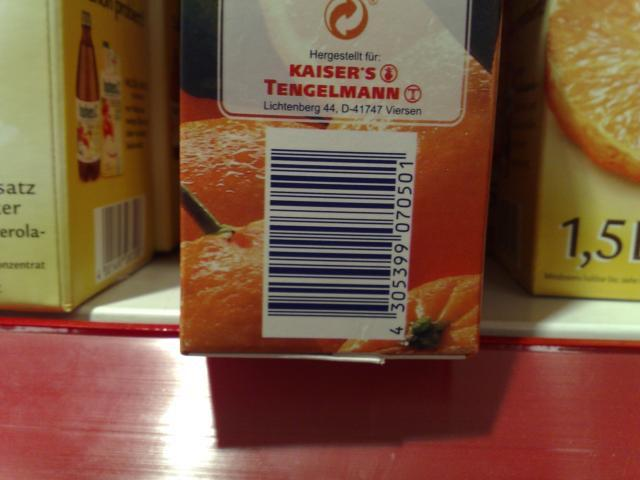Barcode: (261, 126, 419, 343)
